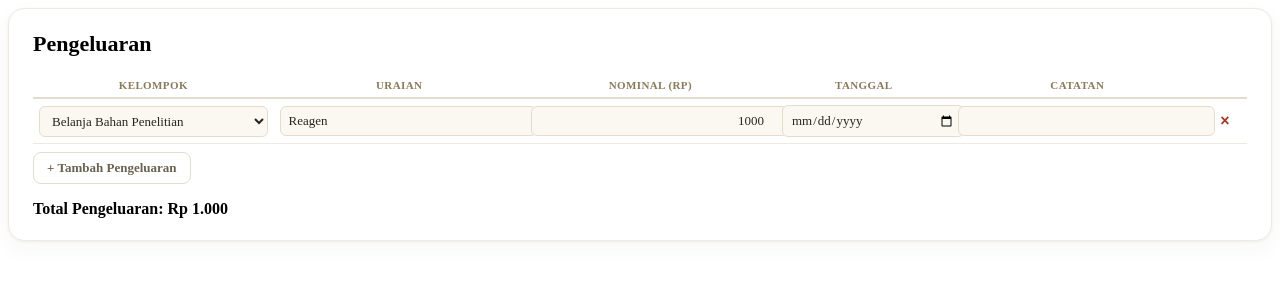
Test: PengeluaranTab › shows an inline error when a background save fails, instead of failing silently
Replace the text in the field named "Uraian" with "Reagen kimia" at [408, 121], box [280,106,537,136]
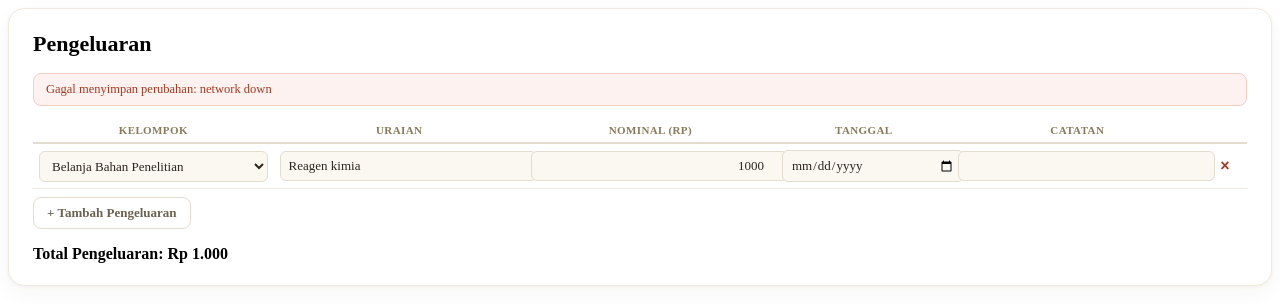
Expected: the text "Gagal menyimpan perubahan: network down" is shown, [46,82,272,96]
